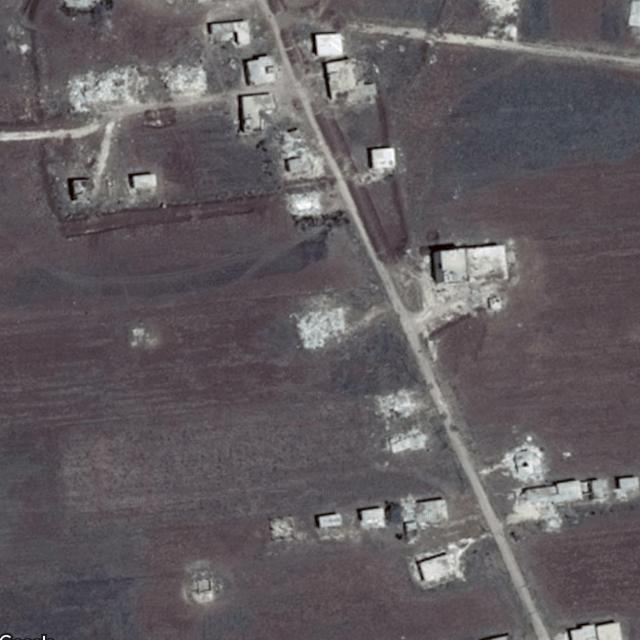damaged_building: (68, 65, 148, 113), (514, 479, 582, 530), (274, 125, 324, 180), (290, 303, 344, 352), (155, 58, 207, 100), (500, 442, 547, 482), (372, 387, 416, 425), (386, 426, 430, 456), (283, 186, 322, 215), (482, 0, 517, 15)
